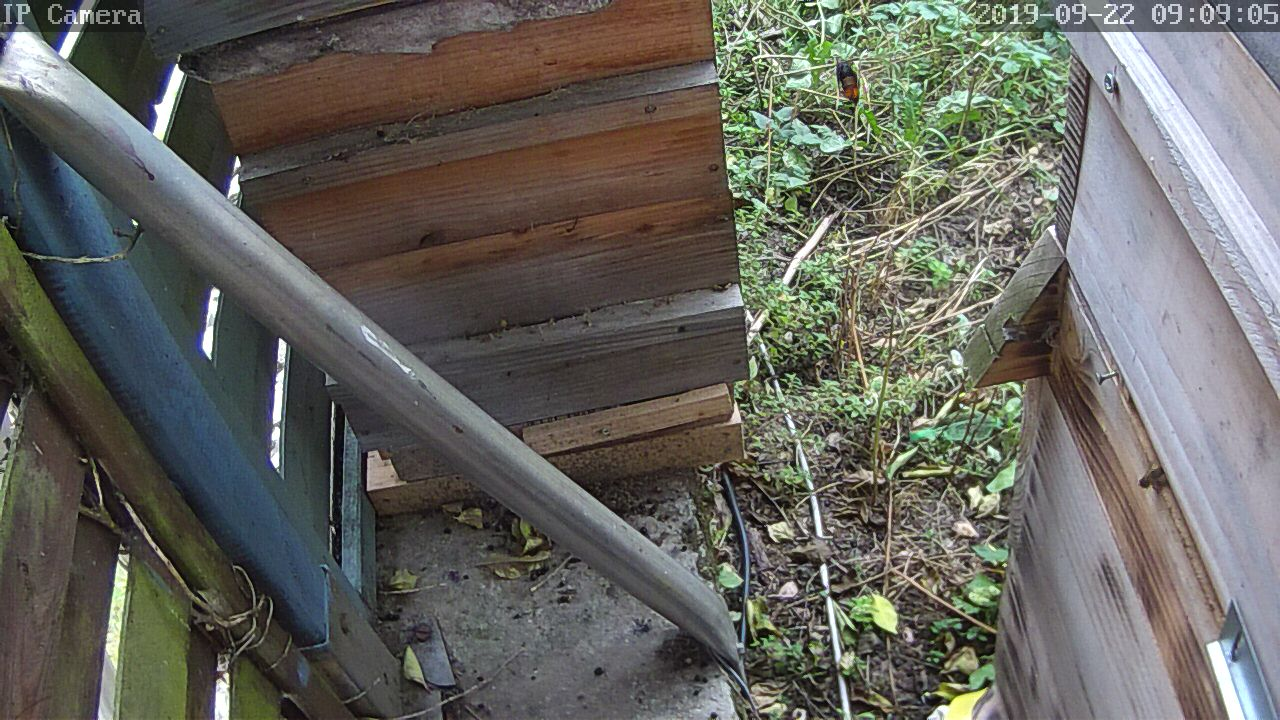bee: (1131, 465, 1170, 494)
hornet: (824, 52, 872, 111)
